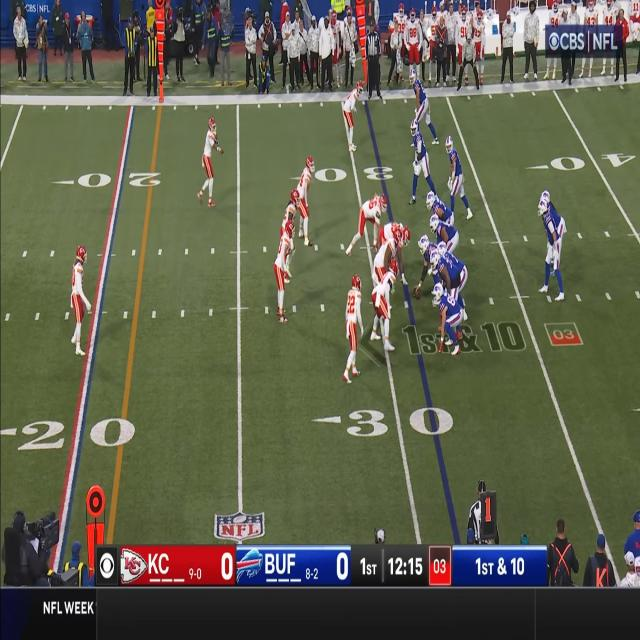Player: (372, 260, 399, 350), (272, 223, 296, 323), (538, 201, 560, 300), (70, 244, 89, 356), (344, 272, 363, 382), (433, 284, 461, 355), (353, 194, 386, 252), (410, 119, 431, 195), (203, 115, 220, 208), (342, 81, 363, 153), (374, 228, 402, 280), (446, 135, 464, 215), (299, 156, 315, 245), (430, 252, 460, 299), (410, 68, 431, 119), (430, 215, 460, 250), (543, 188, 563, 240), (426, 191, 454, 225), (381, 219, 409, 252), (281, 188, 300, 232), (418, 234, 432, 288), (439, 240, 464, 263)
Referee: (364, 23, 382, 101)
